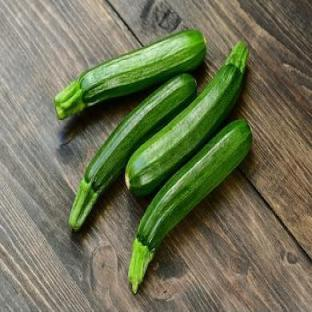Zucchini: (128, 120, 251, 292), (69, 74, 195, 230), (126, 42, 247, 195), (55, 30, 206, 118)
